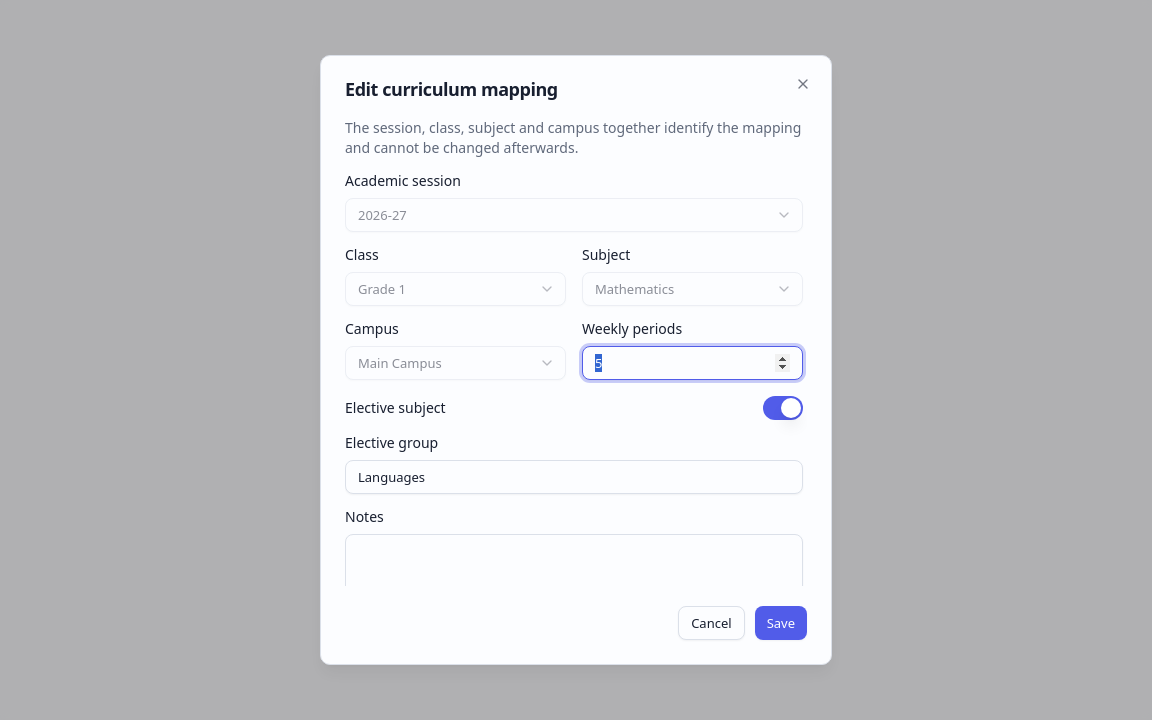
Test: CurriculumFormDialog › editing a mapping › when the server refuses to leave an elective group short of options › shows it under the group input while the switch is on
Click the button "Save".
click(781, 623)  # box [755,606,807,640]
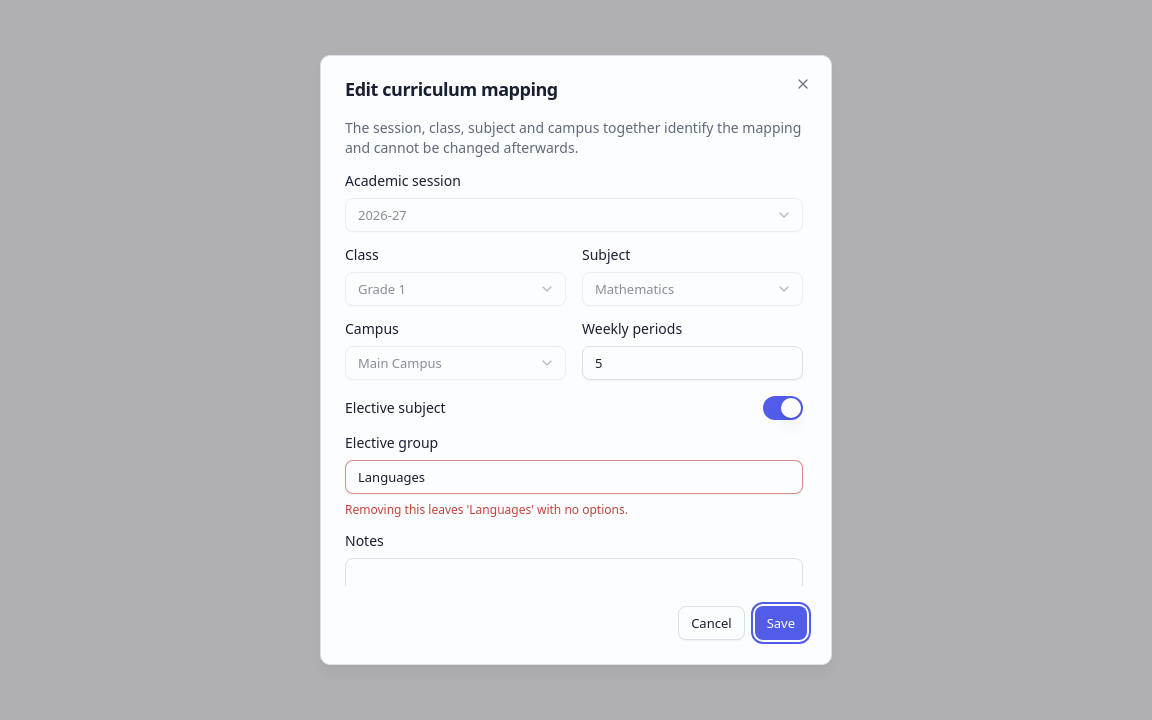
Result: the text "Removing this leaves 'Languages' with no options." is shown at [345,501,628,518]
